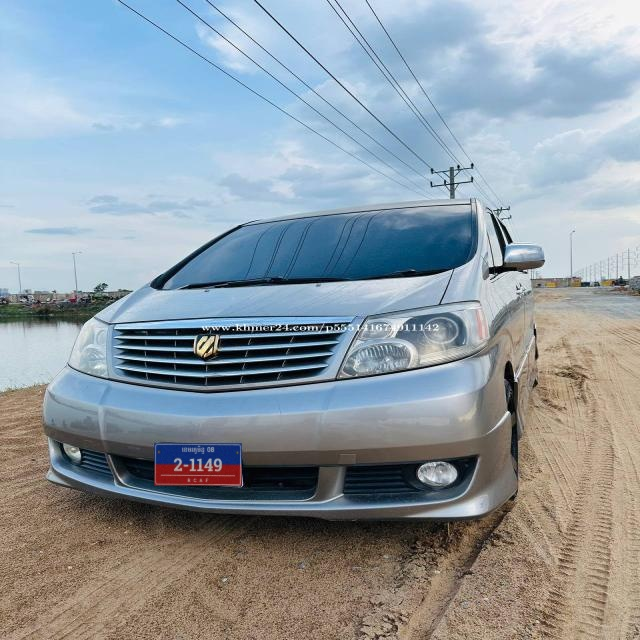Plate Number: (154, 443, 243, 487)
